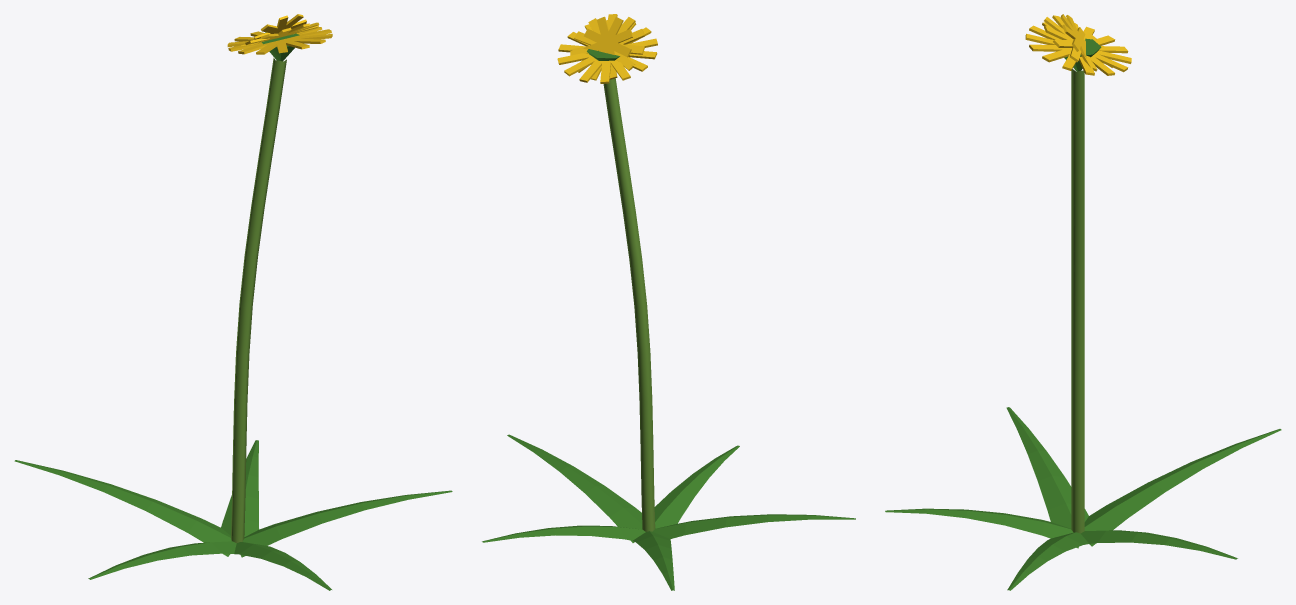
File: dandelion.glb
3 views of the same model, side by side, from view 1: azimuth 30°, elevation 25°; view 2: azimuth 150°, elevation 25°; view 3: azimuth 270°, elevation 25° (orthographic). The views are drawn at different scales.
Parts seen in each view (by area): view 1: dandelion; view 2: dandelion; view 3: dandelion.
Boxes of the visible parts, left/top/right/bottom form: dandelion: left=14, top=14, right=452, bottom=590; dandelion: left=482, top=14, right=855, bottom=590; dandelion: left=885, top=14, right=1281, bottom=590.
Bounding box in the file's own units: 20.71 × 28.7 × 18.98.
